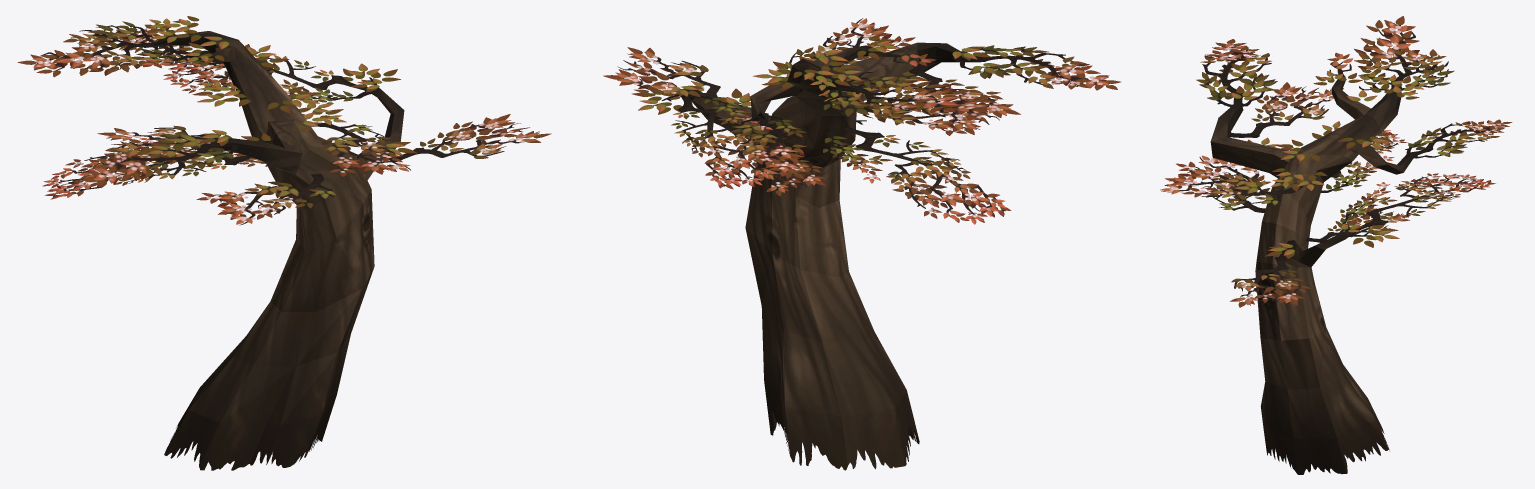
Rendered from cherrytree_02.fbx.
3 renders of one model, left to right at view 1: azimuth 30°, elevation 25°; view 2: azimuth 150°, elevation 25°; view 3: azimuth 270°, elevation 25°, orthographic. The views are drawn at different scales.
Parts seen in each view (by area): view 1: obj1.004; view 2: obj1.004; view 3: obj1.004.
Boxes of the visible parts, x1,y1,x2,y2 form: obj1.004: (17, 16, 551, 470); obj1.004: (603, 18, 1120, 470); obj1.004: (1160, 16, 1512, 474).
Bounding box in the file's own units: 9.01 × 7.11 × 6.67.
